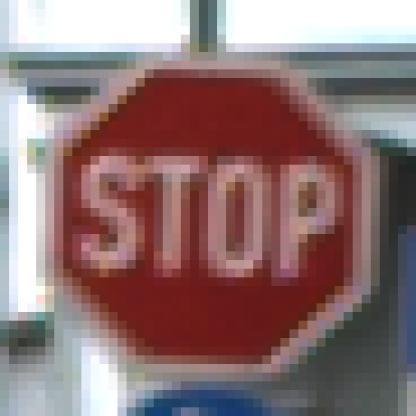Stop: (52, 64, 366, 375)
